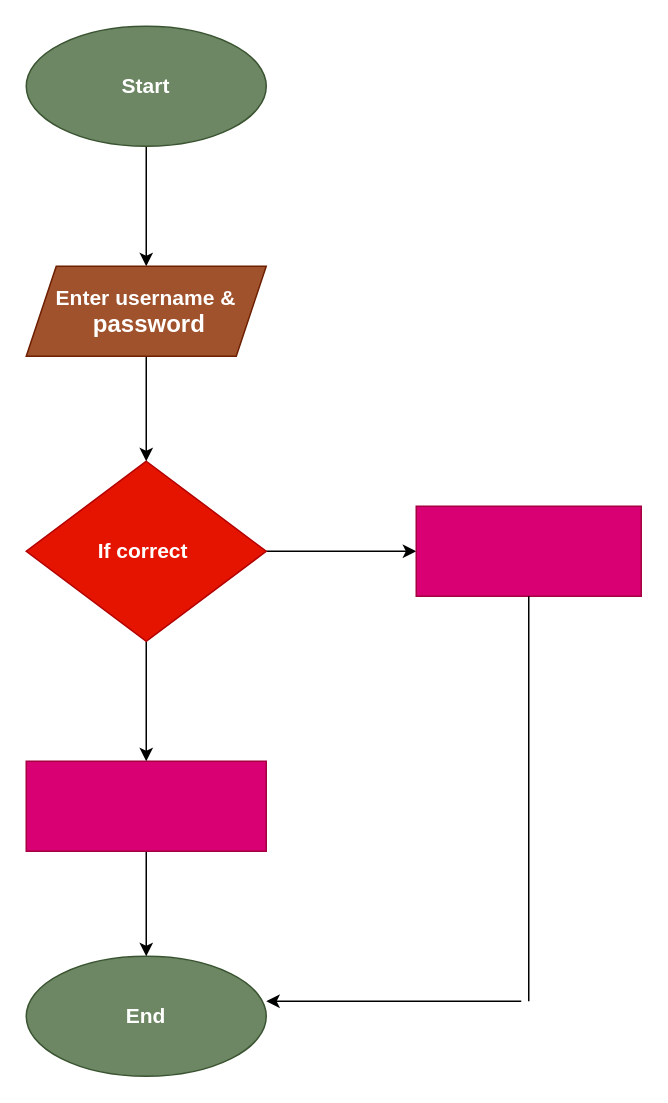
Image size: 668x1103. Some labels were removed from this diagram. Each missing label, with the box of its shape:
Change password: (415, 505, 641, 596)
Login Successfull: (25, 760, 266, 851)
